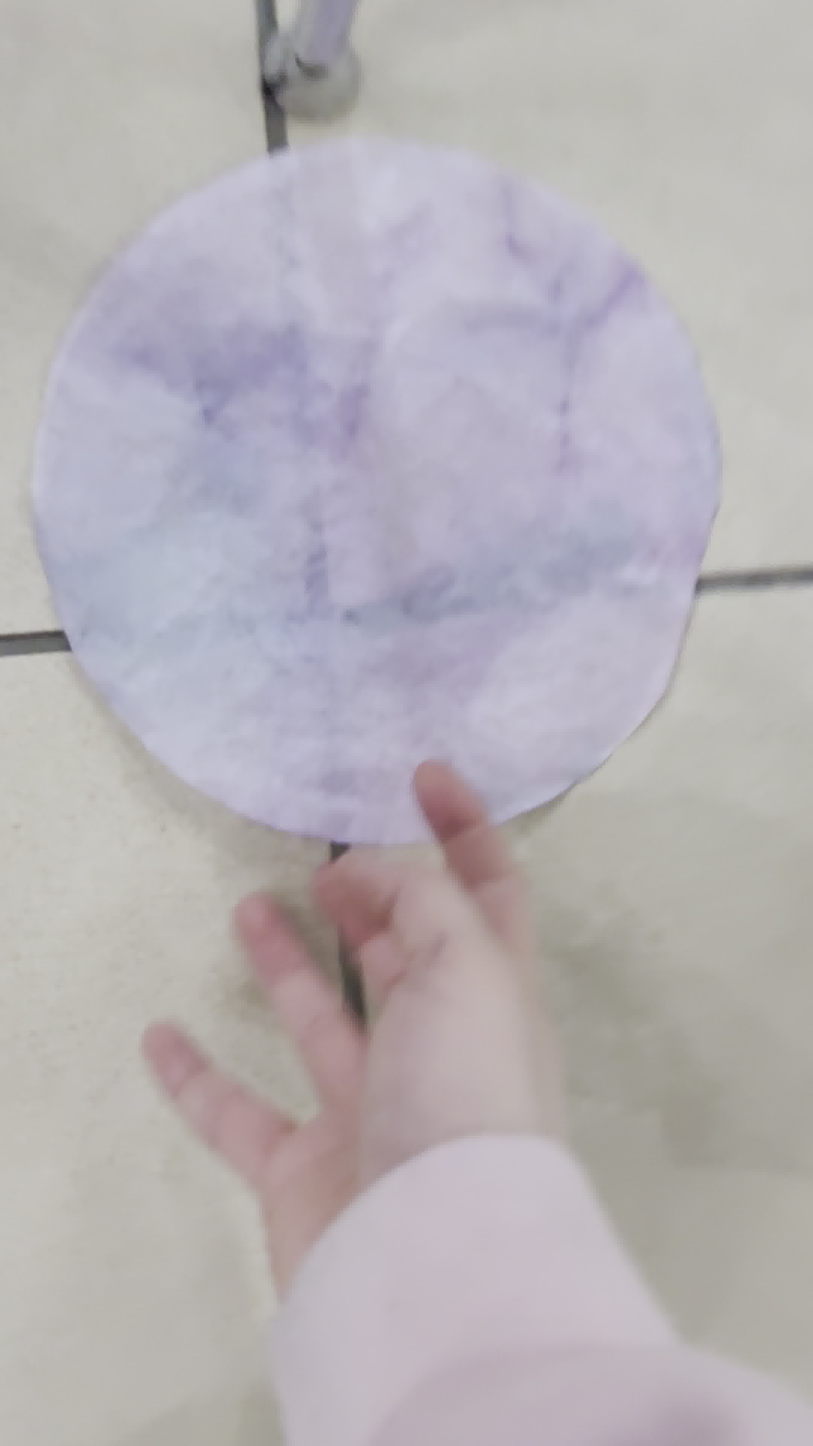Target: (15, 158, 721, 845)
